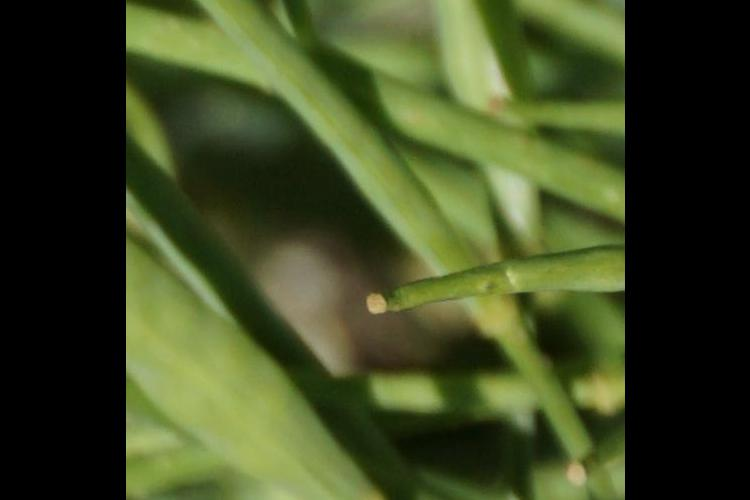pod: (349, 251, 612, 328)
